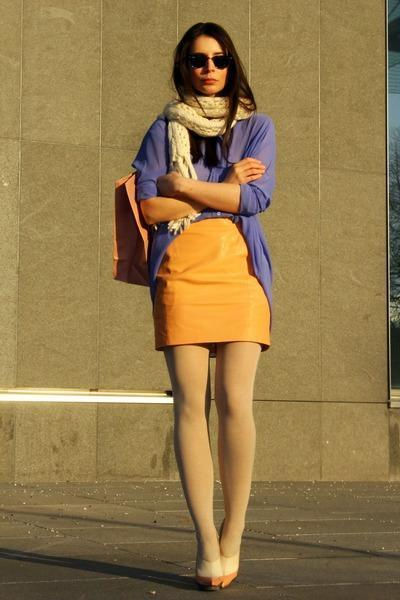bag: (114, 173, 154, 284)
jacket: (132, 108, 276, 290)
shoe: (199, 560, 227, 586)
skirt: (140, 219, 269, 344)
